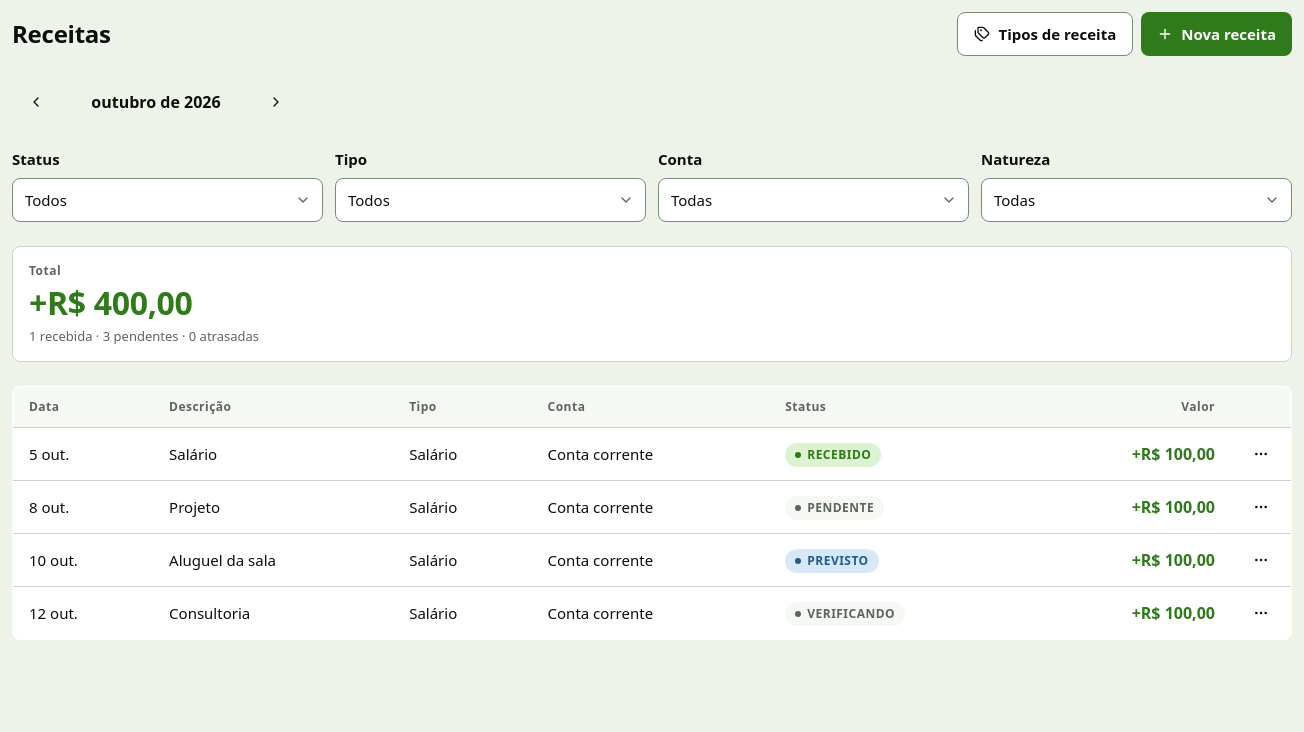
Test: earning row actions (spec 0014) › confirms without a dialog
expect the table named "Receitas" is shown: met, box [12, 386, 1292, 640]
Click the button named "Ações de Aluguel da sala" at [1261, 560], box [1239, 538, 1283, 582]
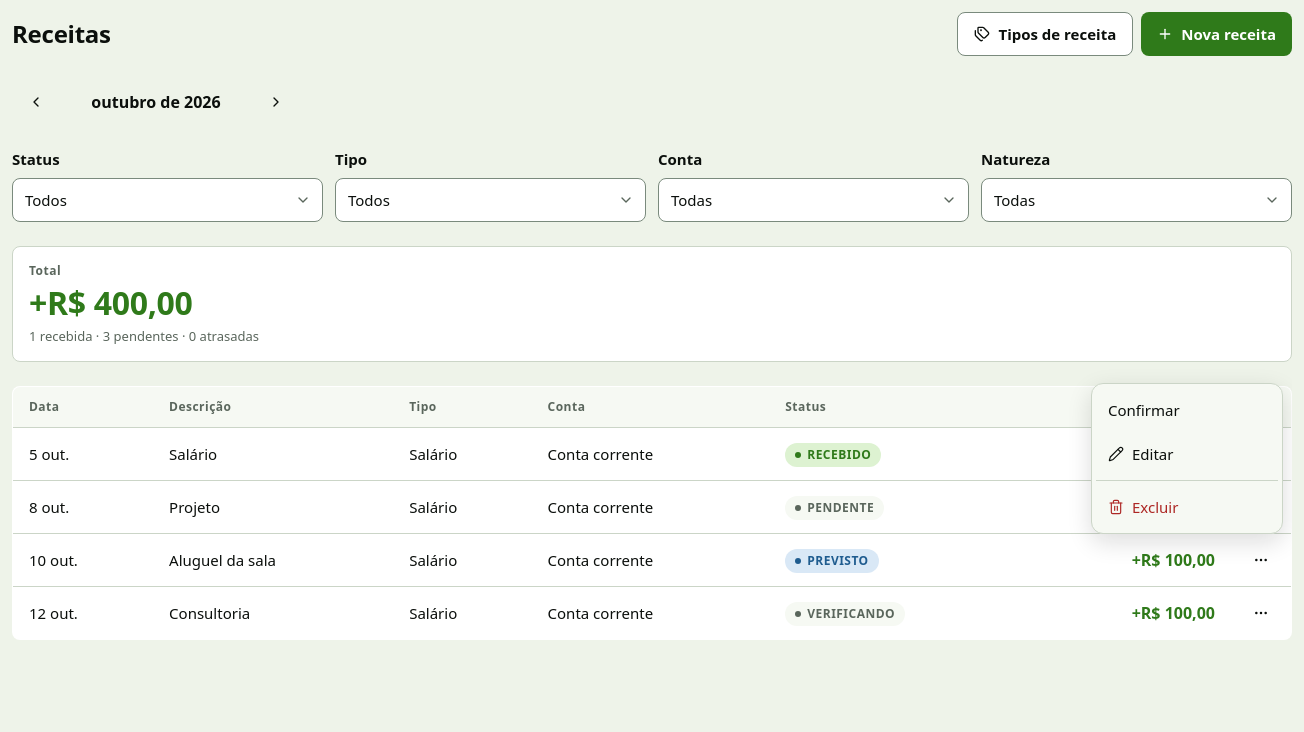
Click the menu item "Confirmar" at [1144, 410], box [1108, 400, 1180, 420]
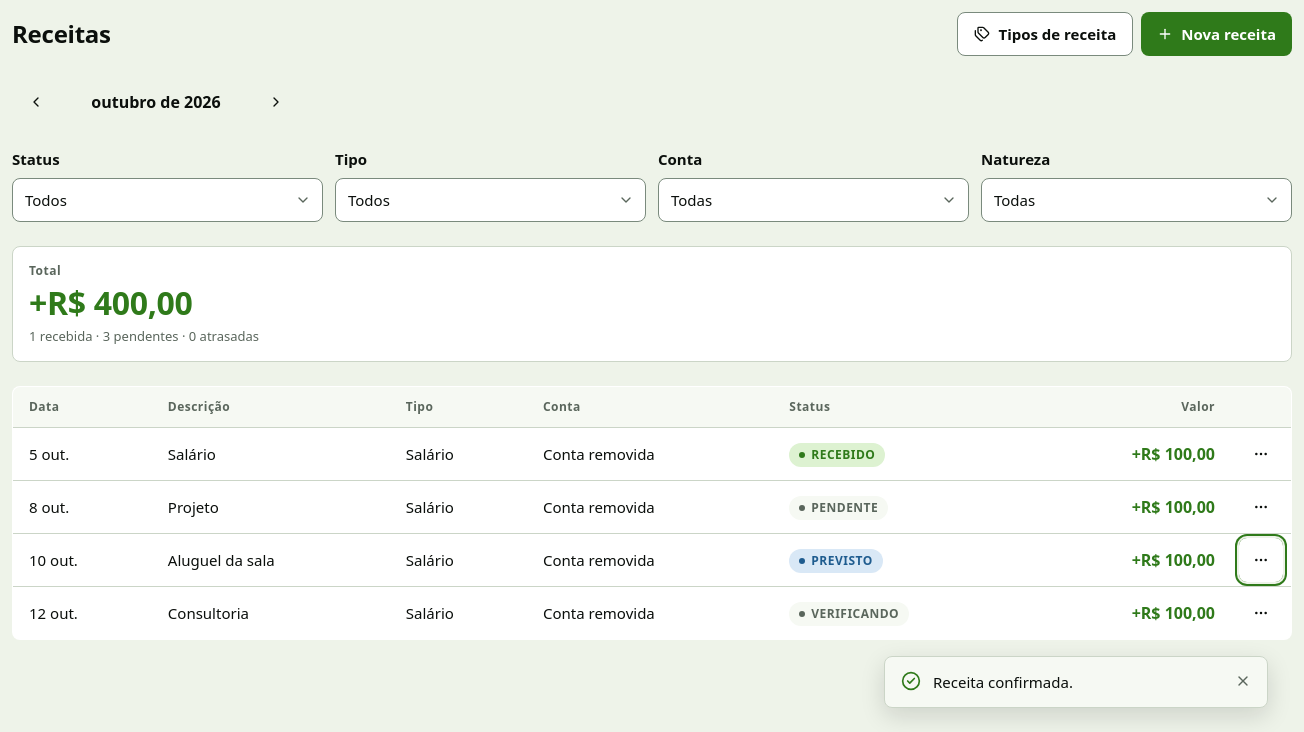
expect the text "Receita confirmada." is shown: met, box [933, 672, 1073, 692]
